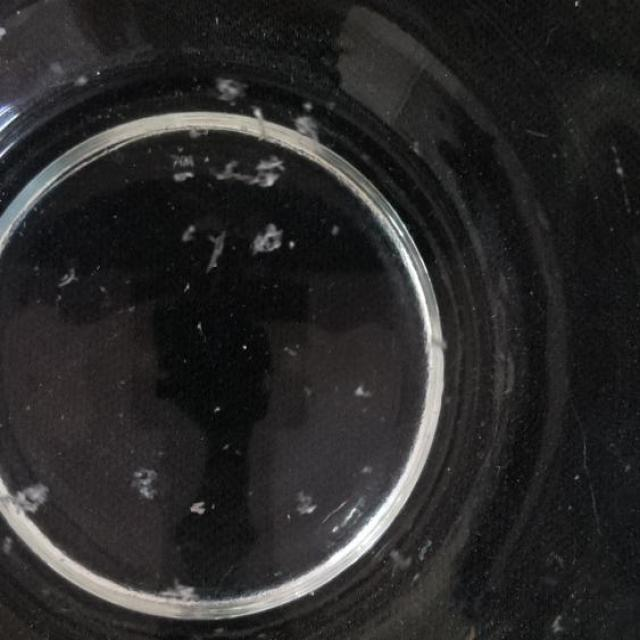fiber: (201, 155, 289, 193), (0, 477, 55, 528), (128, 465, 165, 508), (248, 218, 285, 260), (156, 574, 202, 606), (249, 107, 283, 150), (212, 74, 255, 107), (201, 232, 230, 276), (293, 114, 324, 152), (290, 486, 323, 520), (169, 153, 199, 190), (181, 116, 215, 140), (550, 609, 567, 639), (188, 496, 212, 517), (178, 220, 196, 246), (0, 535, 16, 564), (352, 379, 370, 403), (0, 16, 11, 51), (359, 460, 375, 482), (330, 218, 340, 242)
